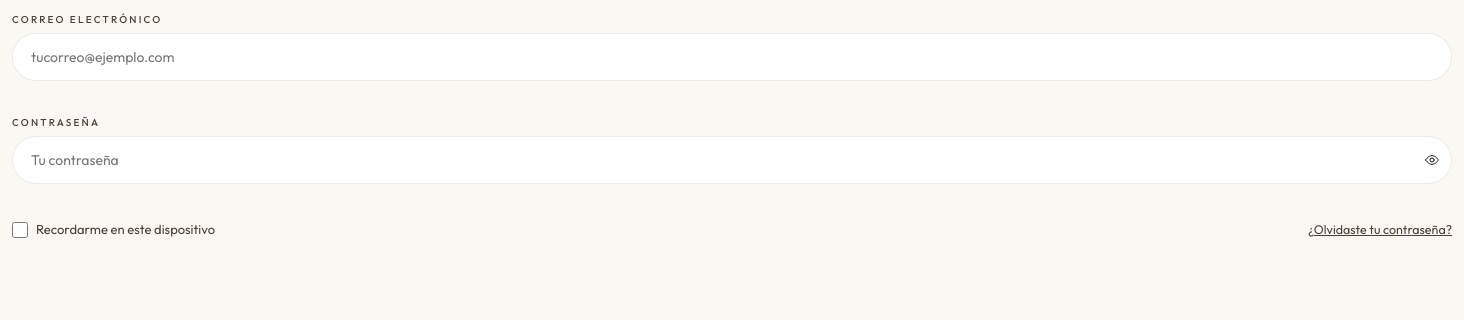
Scenario: LoginForm › locks the account and notifies the parent on ACCOUNT_LOCKED
Step 1. Type "sharon@ejemplo.com" into the field with placeholder "tucorreo@ejemplo.com" → coordinates (732, 57), box left=12, top=33, right=1452, bottom=81
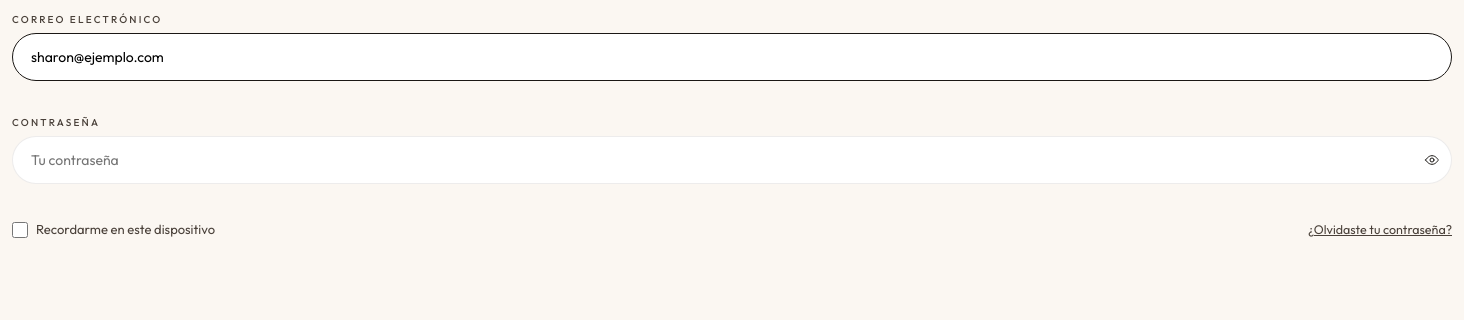
Step 2. Type "clave1234" into the password field with placeholder "Tu contraseña" → coordinates (732, 160), box left=12, top=136, right=1452, bottom=184
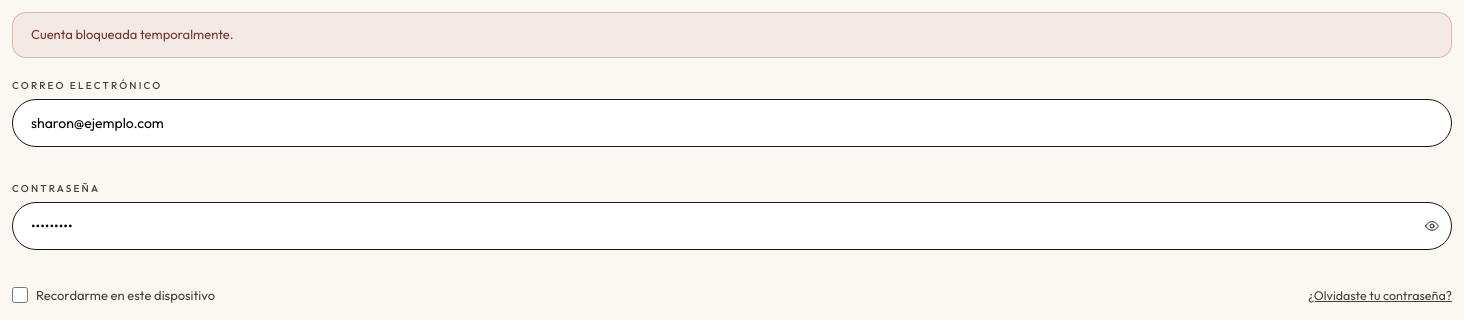
Expected: the text "Cuenta bloqueada temporalmente." is shown, left=12, top=12, right=1452, bottom=58
